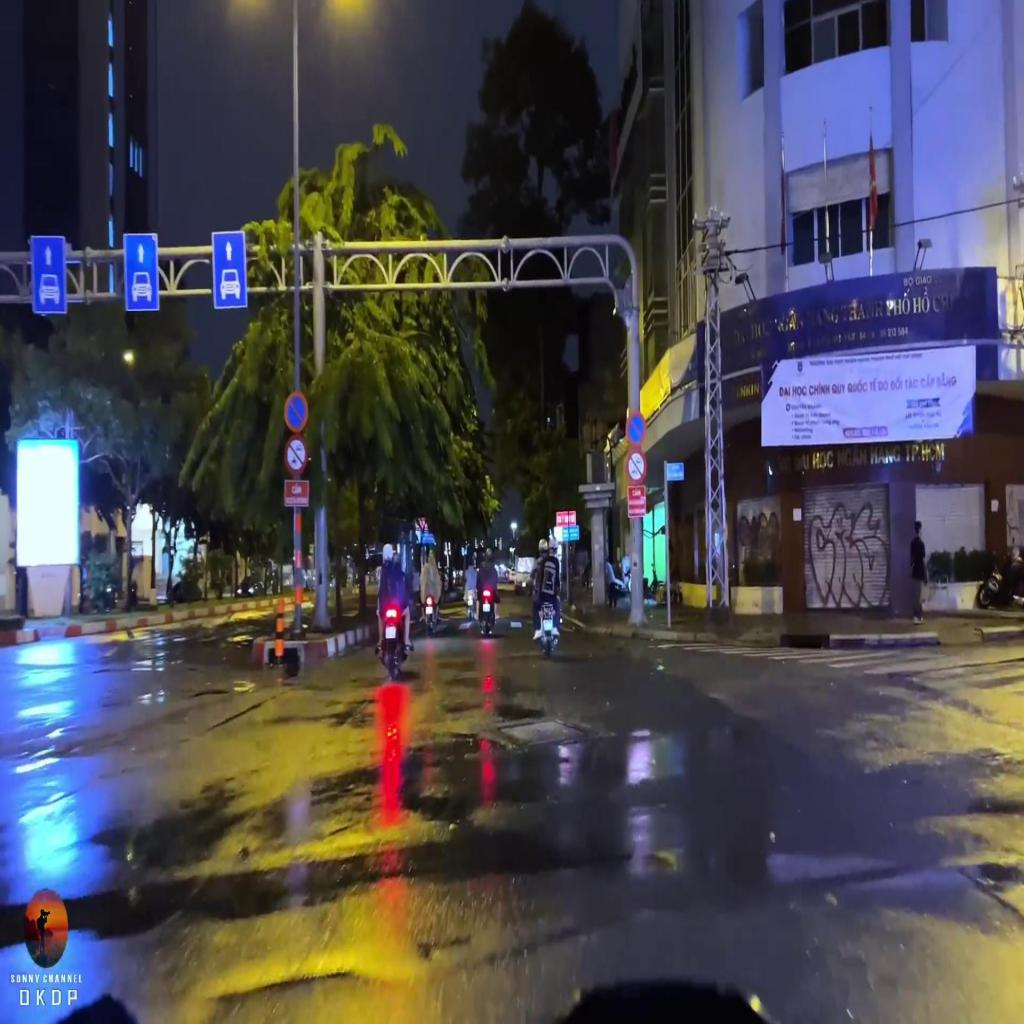cam_cac_loai_xe_3_banh: (625, 448, 647, 484)
cam_do_xe: (283, 390, 309, 431), (624, 410, 646, 448)
cam_xe_2_banh_va_xe_3_banh_co_dong_co: (284, 436, 306, 474)
duong_cho_xe_o_to: (32, 235, 66, 315), (125, 232, 159, 310), (214, 231, 246, 308)
